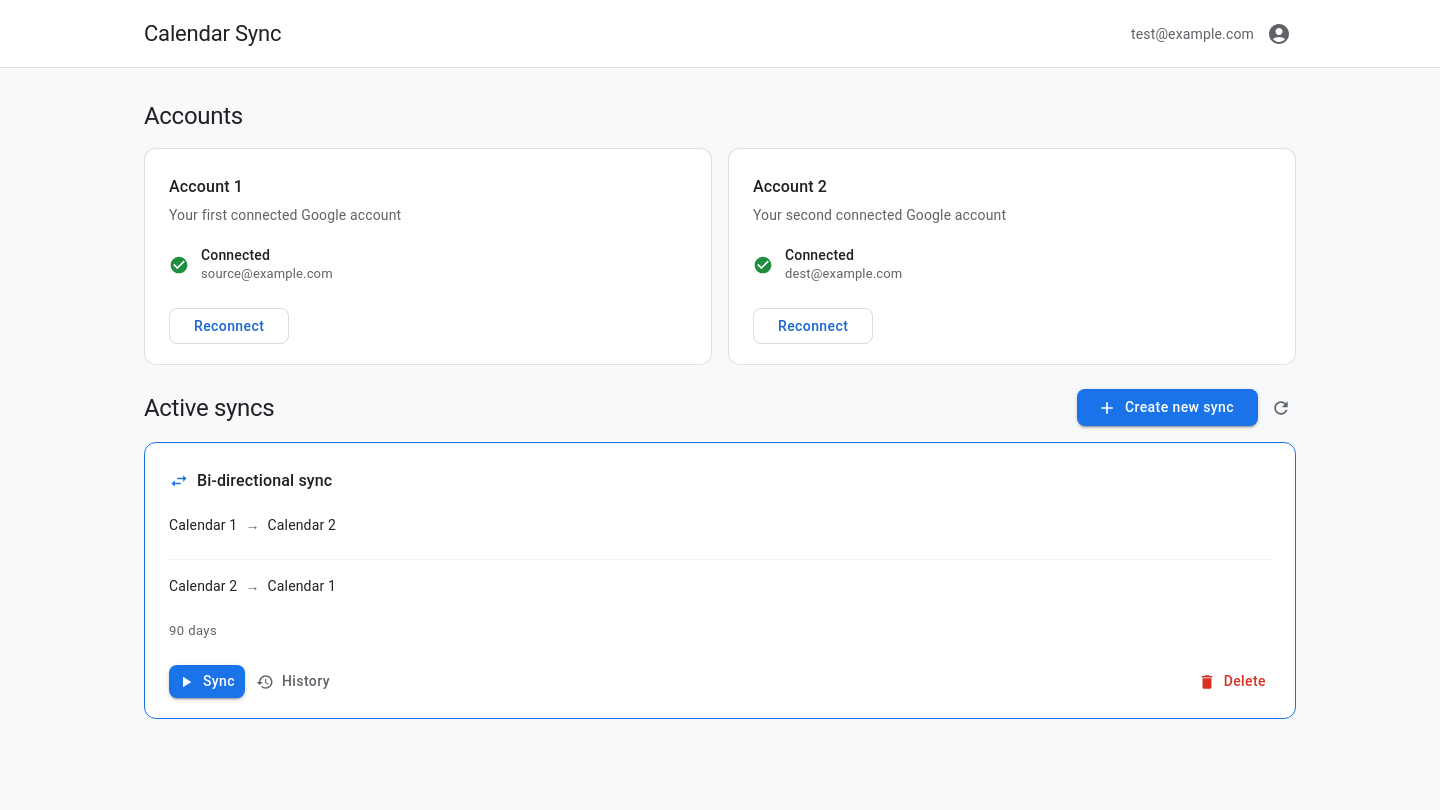
Test: Dashboard - Sync Deletion › Bi-directional sync deletion › should show error if bi-directional deletion fails
Check: the heading "Bi-directional sync" is shown, box [197,467,332,495]
Click the button "Delete".
click(1233, 682)  # box [1195,665,1271,698]
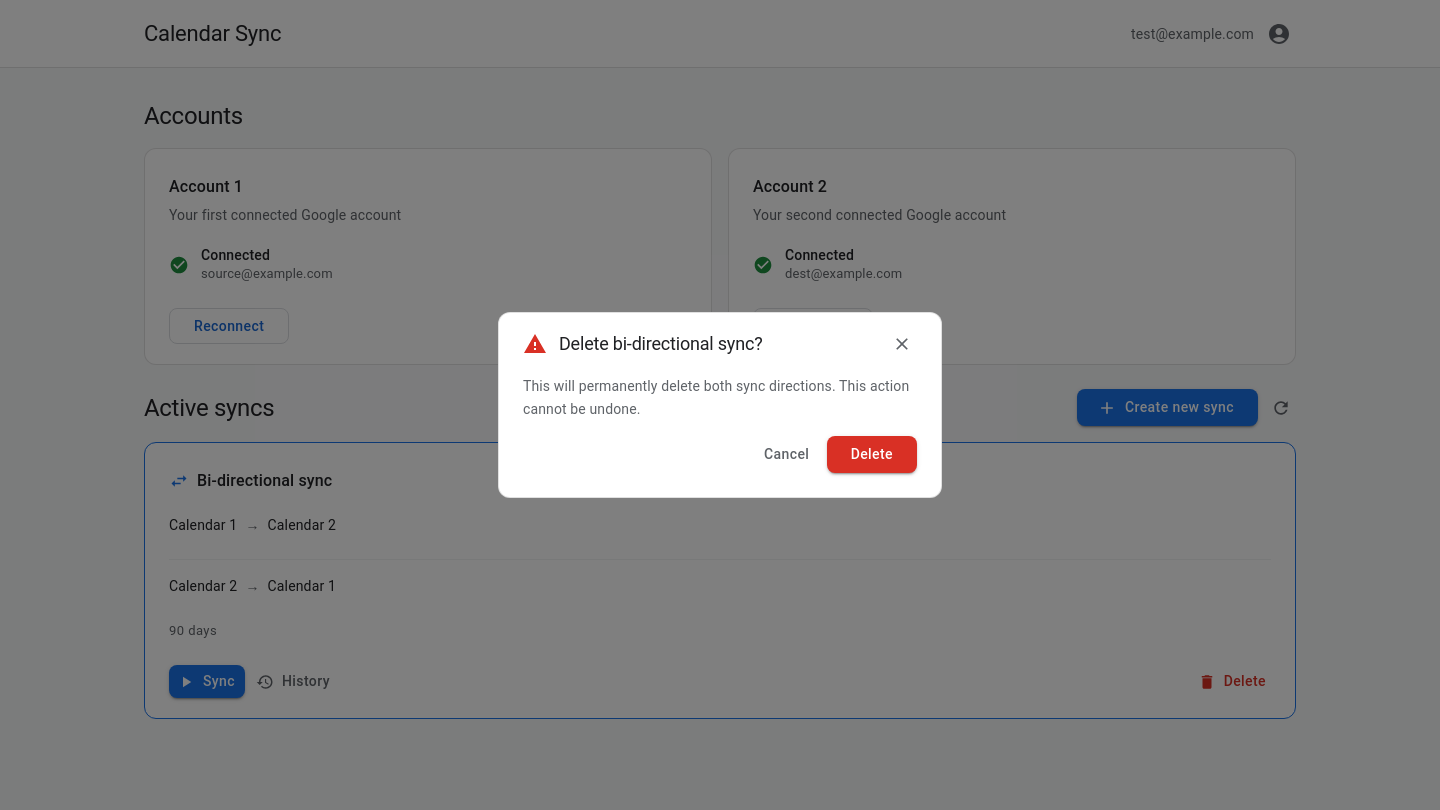
Click the button "Delete".
click(872, 454)  # box [827,436,917,473]
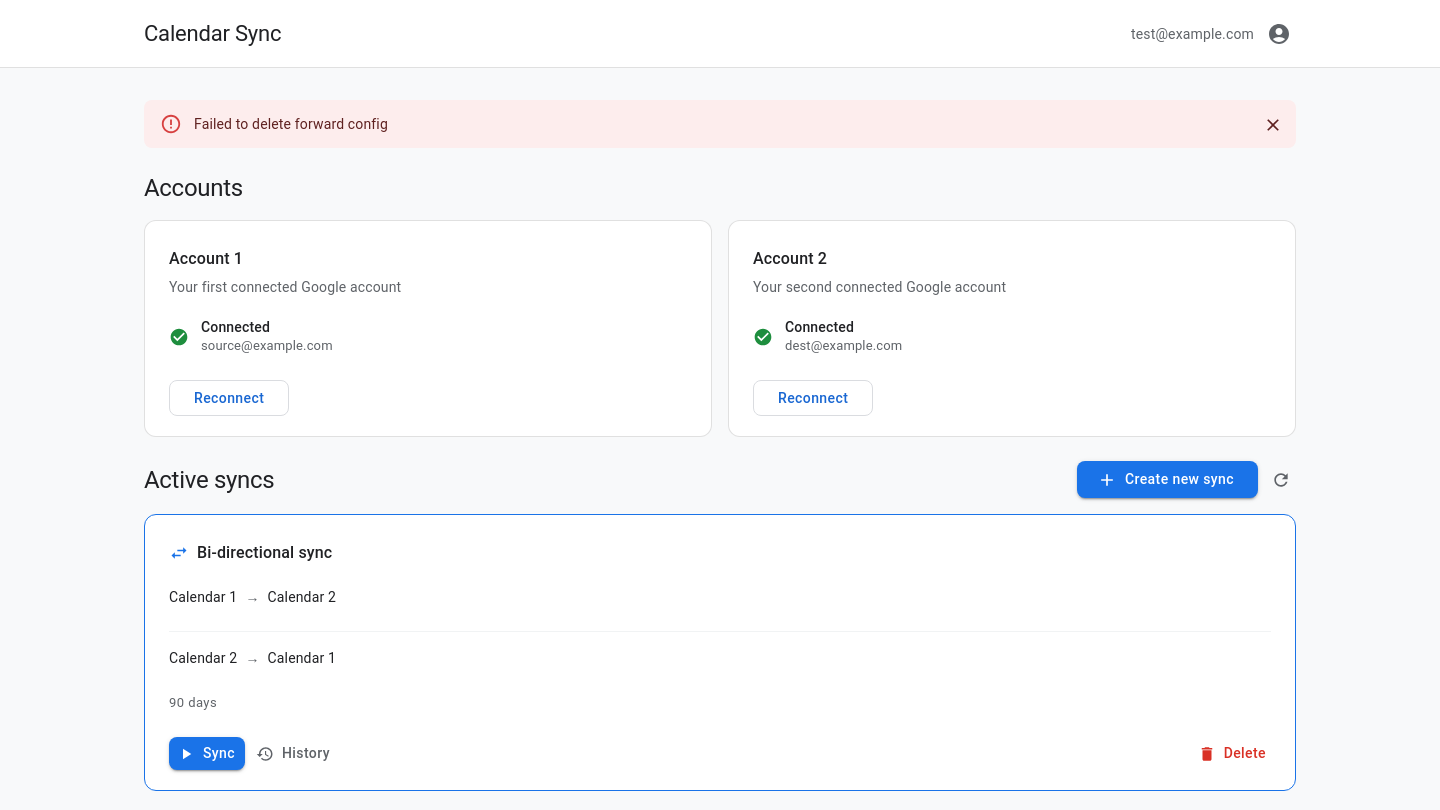
Check: the heading "Bi-directional sync" is shown, box [197,539,332,567]
Check: the text "Failed to delete forward config" is shown, box [194,116,388,132]
